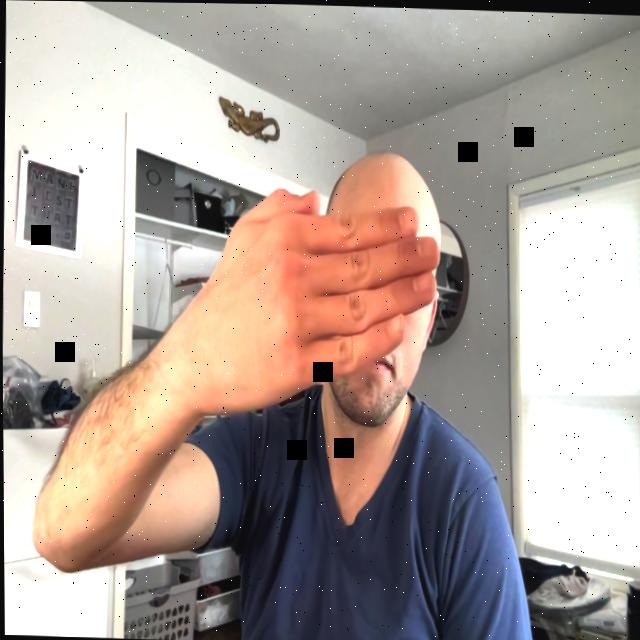Paper: (176, 179, 442, 424)
